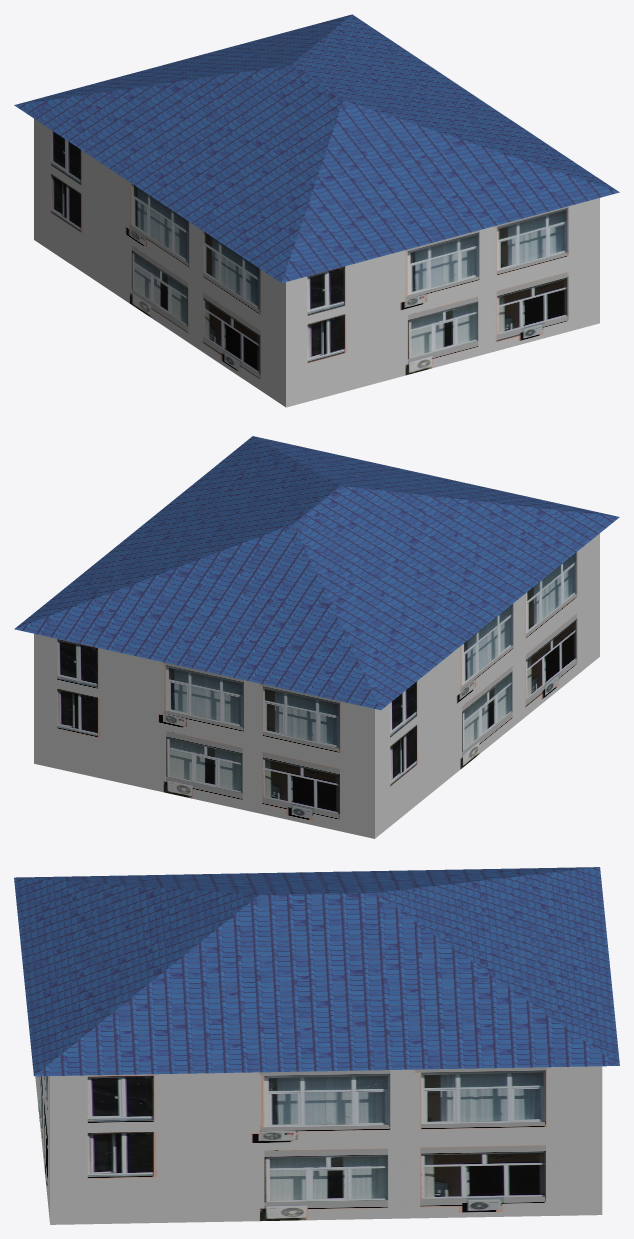
The picture shows the model from 3 angles, top to bottom: view 1: azimuth 30°, elevation 25°; view 2: azimuth 150°, elevation 25°; view 3: azimuth 270°, elevation 25°; orthographic projection. The views are drawn at different scales.
Visible parts, largest first — view 1: CityEngineMaterial_10_m, CityEngineMaterial_9_m; view 2: CityEngineMaterial_10_m, CityEngineMaterial_9_m; view 3: CityEngineMaterial_10_m, CityEngineMaterial_9_m.
Boxes of the visible parts, x1=… form: CityEngineMaterial_10_m: x1=14, y1=14, x2=619, y2=283; CityEngineMaterial_9_m: x1=34, y1=119, x2=599, y2=407; CityEngineMaterial_10_m: x1=14, y1=436, x2=619, y2=709; CityEngineMaterial_9_m: x1=34, y1=533, x2=599, y2=838; CityEngineMaterial_10_m: x1=14, y1=867, x2=619, y2=1076; CityEngineMaterial_9_m: x1=35, y1=1066, x2=602, y2=1224.
Bounding box in the file's own units: 27.45 × 14.29 × 33.58.
